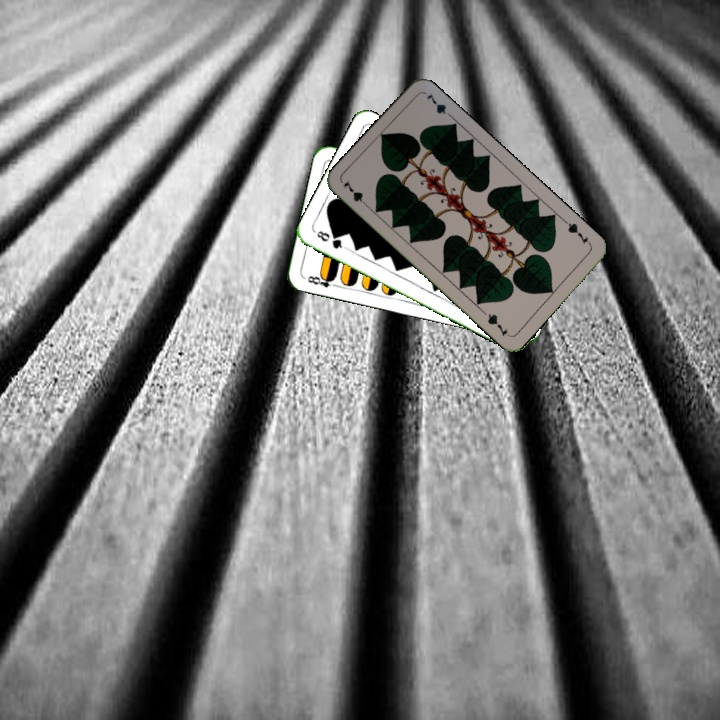E8: (301, 271, 341, 290)
G7: (338, 177, 372, 211), (560, 217, 593, 248)
G8: (312, 227, 349, 252)
